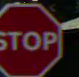Stop: (1, 2, 64, 76)
